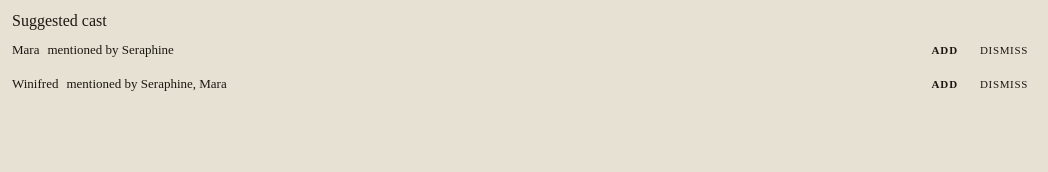
a failed Add surfaces the reason and leaves the chip in place
The image size is (1048, 172).
Click the button with aria-label "Add Mara to the scene".
click(945, 50)  # box [924,36,966,64]
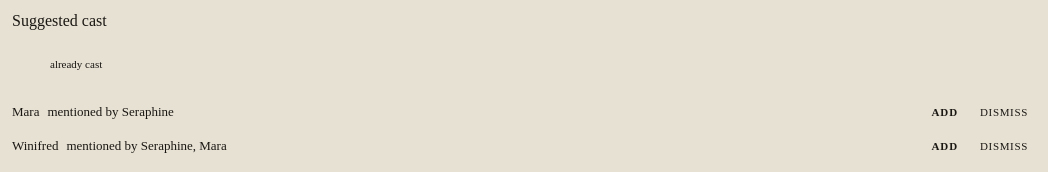
expect the text "Mara" is shown: met, box [12,104,39,120]
expect the text "already cast" is shown: met, box [50,58,102,70]
